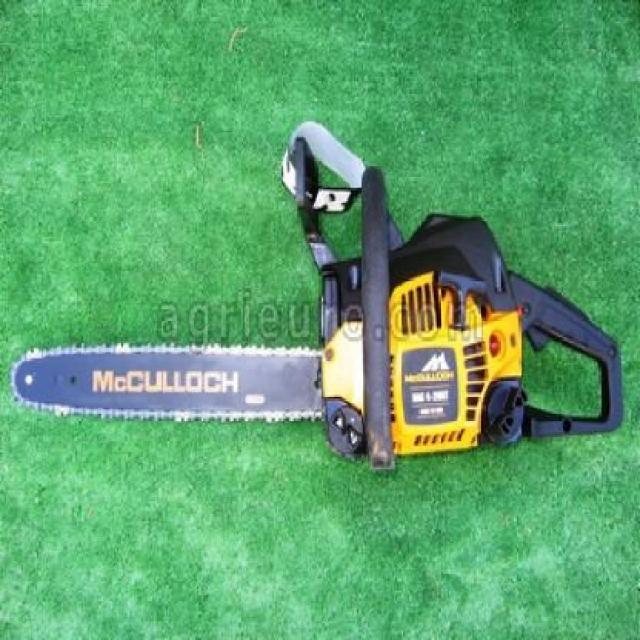Chainsaw: (9, 119, 625, 472)
